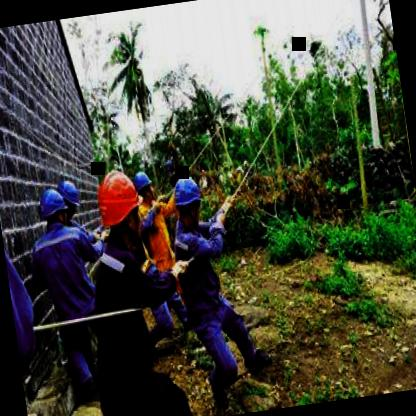helmet: (90, 162, 146, 246), (170, 171, 206, 230), (35, 184, 74, 232), (57, 172, 84, 219), (130, 164, 156, 207)
